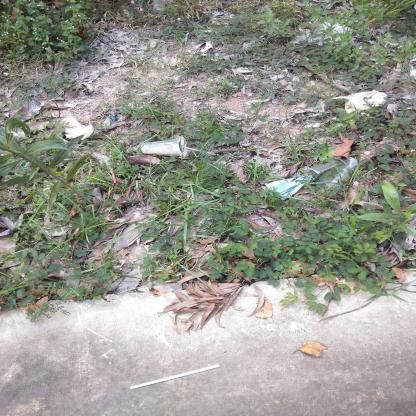trash: (124, 359, 230, 396), (137, 134, 226, 161), (324, 86, 395, 118), (306, 154, 360, 192), (262, 172, 315, 205)
